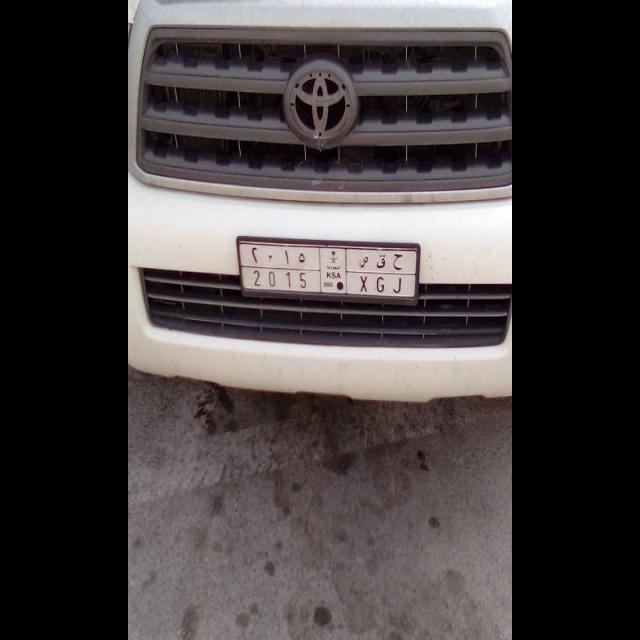license_plate: (244, 269, 416, 299)
